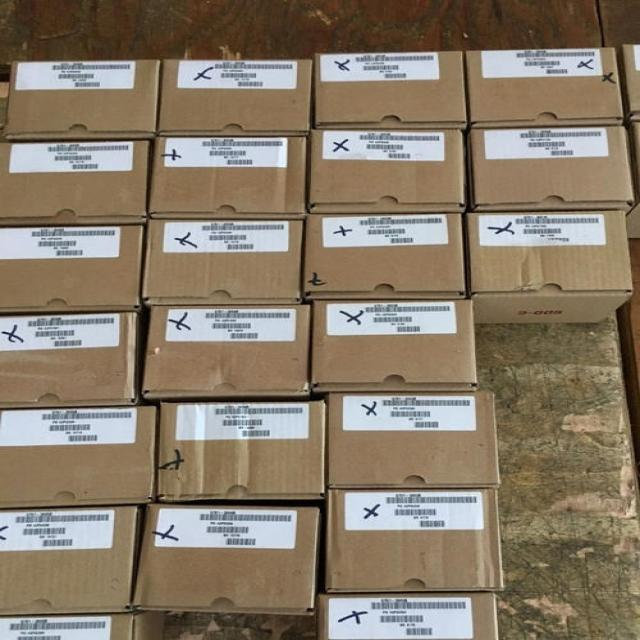box: (124, 509, 326, 614), (468, 210, 633, 325), (325, 491, 503, 596), (157, 399, 326, 500), (0, 404, 159, 510), (322, 391, 501, 484), (309, 297, 475, 390), (142, 304, 309, 394), (466, 123, 633, 212), (2, 507, 137, 616), (303, 212, 465, 301), (143, 218, 303, 306), (147, 132, 308, 217), (3, 306, 136, 406), (304, 129, 463, 212), (2, 135, 152, 222), (462, 48, 628, 126), (0, 222, 146, 310), (312, 50, 471, 130), (3, 60, 162, 138), (159, 57, 310, 135), (319, 596, 498, 639), (0, 610, 169, 639), (620, 44, 638, 119), (623, 203, 639, 235)
